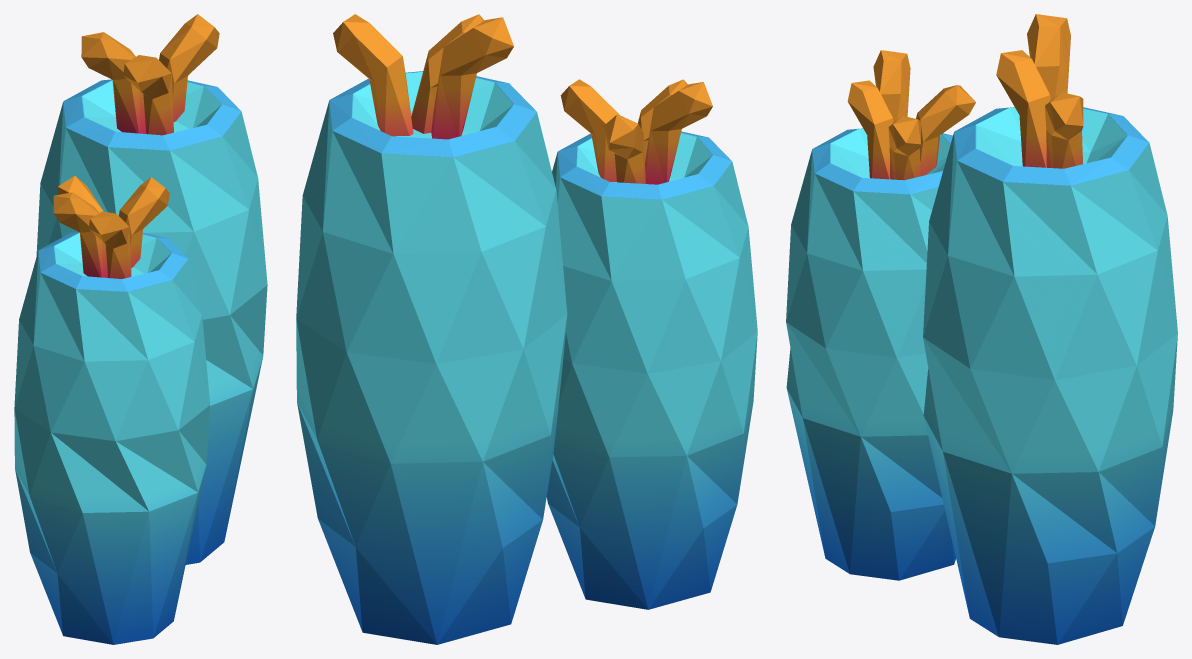
File: SM_Spongia_22.fbx
The picture shows the model from 3 angles, left to right: view 1: azimuth 30°, elevation 25°; view 2: azimuth 150°, elevation 25°; view 3: azimuth 270°, elevation 25°; orthographic projection. The views are drawn at different scales.
Parts seen in each view (by area): view 1: Spongia_22; view 2: Spongia_22; view 3: Spongia_22.
Part boxes in pixels (x1,y1,x2,y2): Spongia_22: (14, 14, 267, 644); Spongia_22: (296, 14, 757, 644); Spongia_22: (786, 14, 1177, 644).
Size of the model in its own units: 57.43 by 95.9 by 59.9.
